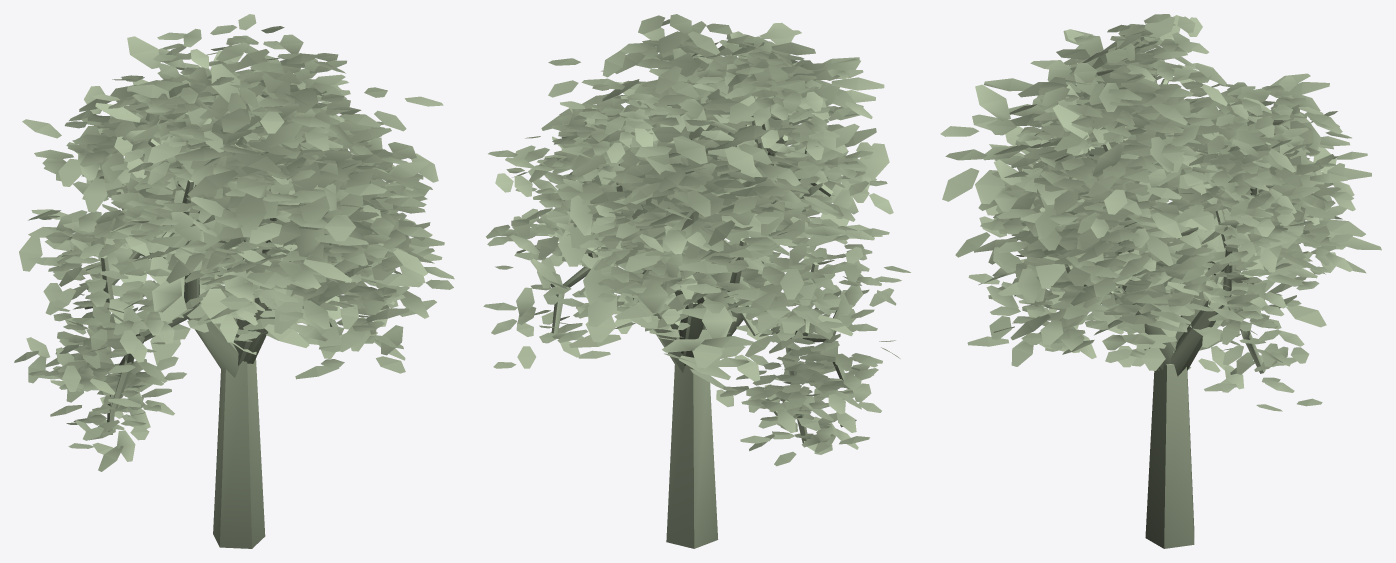
The model's file is tree_def_spreading.glb.
3 renders of one model, left to right at view 1: azimuth 30°, elevation 25°; view 2: azimuth 150°, elevation 25°; view 3: azimuth 270°, elevation 25°, orthographic. The views are drawn at different scales.
Visible parts, largest first — view 1: tier2_foliage, tier1_foliage, tier0_foliage, tier0_bark, tier2_bark; view 2: tier2_foliage, tier1_foliage, tier0_foliage, tier0_bark, tier2_bark, tier1_bark; view 3: tier1_foliage, tier2_foliage, tier0_foliage, tier0_bark, tier2_bark, tier1_bark.
Boxes of the visible parts, x1=… form: tier2_foliage: x1=14, y1=14, x2=418, y2=471; tier1_foliage: x1=19, y1=26, x2=454, y2=379; tier0_foliage: x1=28, y1=36, x2=428, y2=364; tier0_bark: x1=209, y1=238, x2=266, y2=548; tier2_bark: x1=84, y1=112, x2=346, y2=434; tier2_foliage: x1=483, y1=36, x2=910, y2=466; tier1_foliage: x1=535, y1=14, x2=856, y2=381; tier0_foliage: x1=557, y1=21, x2=889, y2=390; tier0_bark: x1=666, y1=148, x2=765, y2=548; tier2_bark: x1=550, y1=96, x2=844, y2=443; tier1_bark: x1=683, y1=126, x2=759, y2=365; tier1_foliage: x1=955, y1=48, x2=1351, y2=370; tier2_foliage: x1=1014, y1=14, x2=1367, y2=411; tier0_foliage: x1=940, y1=15, x2=1381, y2=344; tier0_bark: x1=1145, y1=225, x2=1254, y2=548; tier2_bark: x1=1060, y1=75, x2=1271, y2=376; tier1_bark: x1=1059, y1=142, x2=1208, y2=365.
Size of the model in its own units: 0.7893 by 1 by 0.8258.
